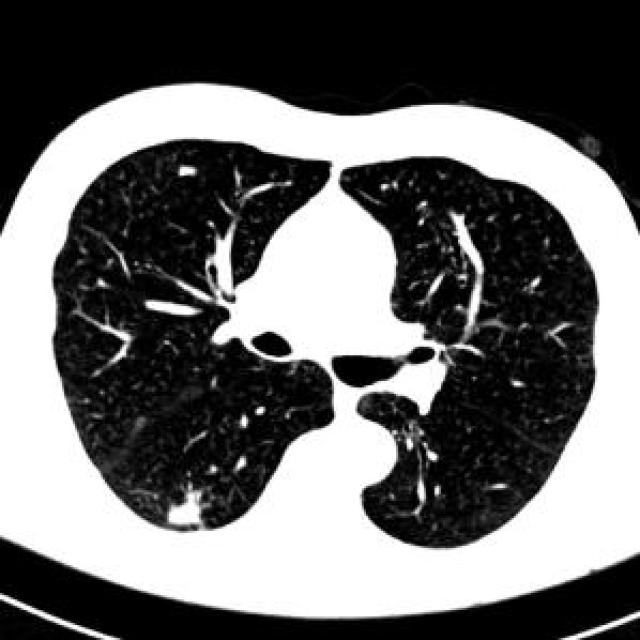Tumor: (178, 167, 195, 175)
